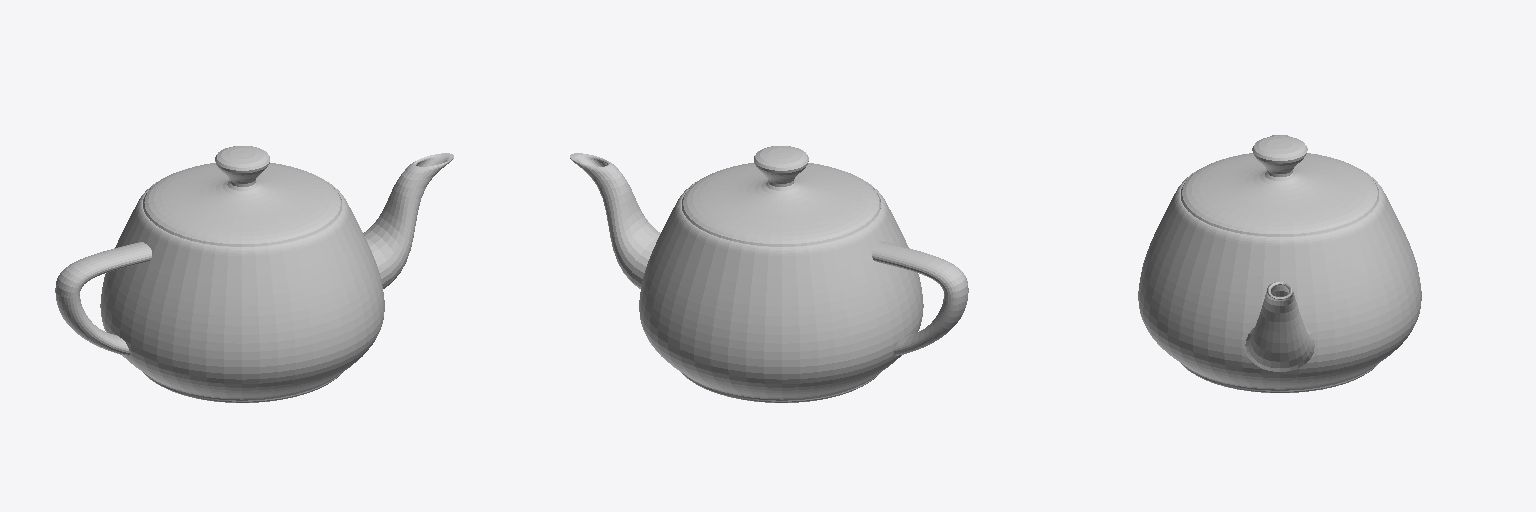
File: oneSidedTeapot.obj
3 views of the same model, side by side, from view 1: azimuth 30°, elevation 25°; view 2: azimuth 150°, elevation 25°; view 3: azimuth 270°, elevation 25° (orthographic).
Visible parts, largest first — view 1: teapot; view 2: teapot; view 3: teapot.
Part boxes in pixels (x1,y1,x2,y2): teapot: (55,146,453,402); teapot: (570,146,968,402); teapot: (1138,135,1421,392).
Bounding box in the file's own units: 154 × 79.01 × 95.86.